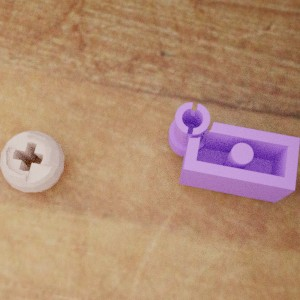lego: (168, 102, 299, 202), (0, 130, 64, 192)
